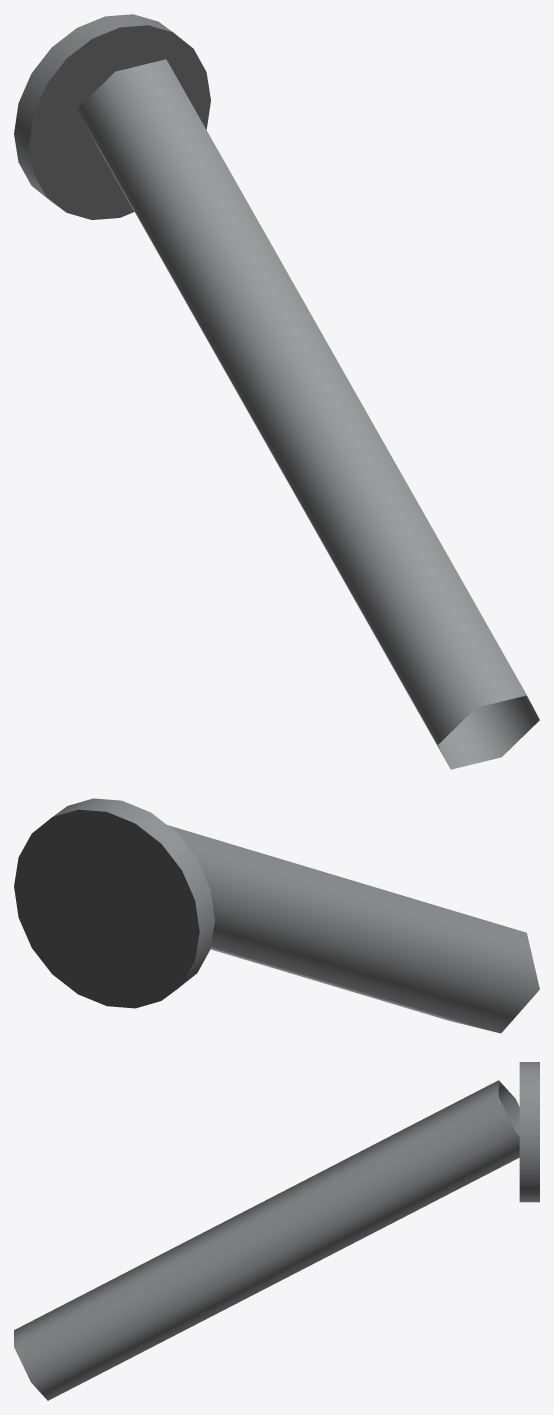
3 views of the same model, one above another, from view 1: azimuth 30°, elevation 25°; view 2: azimuth 150°, elevation 25°; view 3: azimuth 270°, elevation 25° (orthographic). The views are drawn at different scales.
Size of the model in its own units: 0.3496 by 0.8816 by 1.3.
